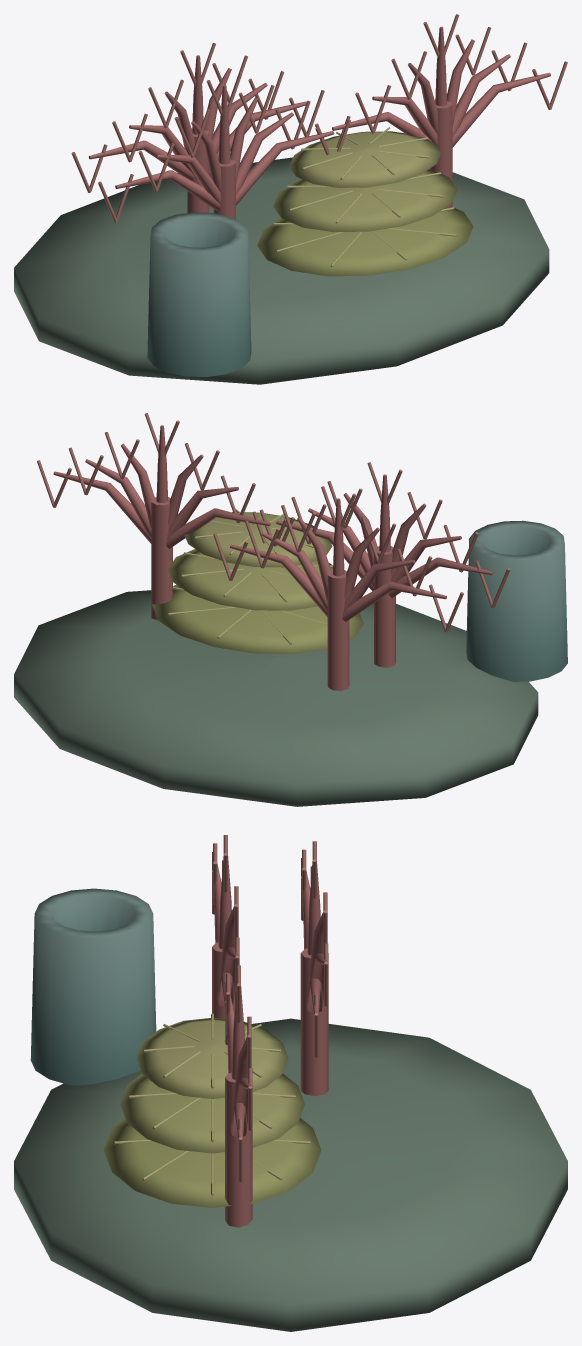
File: Reef3.fbx
3 views of the same model, one above another, from view 1: azimuth 30°, elevation 25°; view 2: azimuth 150°, elevation 25°; view 3: azimuth 270°, elevation 25° (orthographic). The views are drawn at different scales.
Visible parts, largest first — view 1: Hollow sponges, branching sea fans and ribbed plate coral; view 2: Hollow sponges, branching sea fans and ribbed plate coral; view 3: Hollow sponges, branching sea fans and ribbed plate coral.
Boxes of the visible parts, box(x1,y1,x2,y2) form: Hollow sponges, branching sea fans and ribbed plate coral: box(14, 14, 567, 384); Hollow sponges, branching sea fans and ribbed plate coral: box(14, 413, 567, 806); Hollow sponges, branching sea fans and ribbed plate coral: box(14, 835, 567, 1331).
Bounding box in the file's own units: 2.79 × 1.43 × 2.19.
